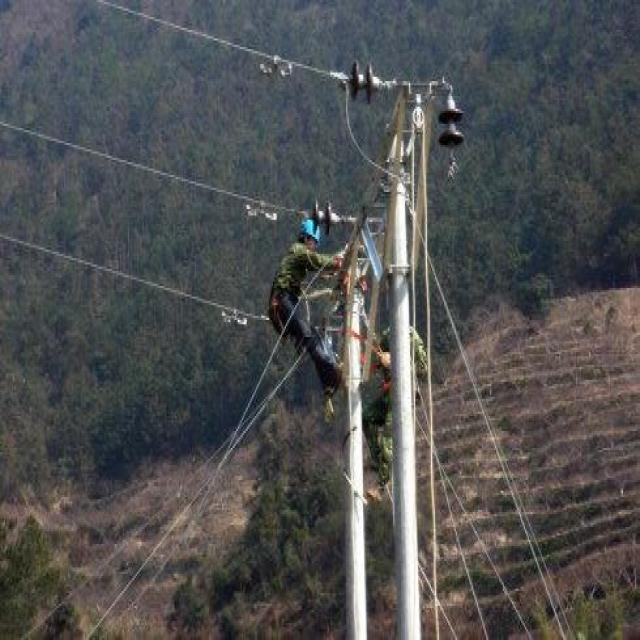hat: (298, 213, 321, 252)
